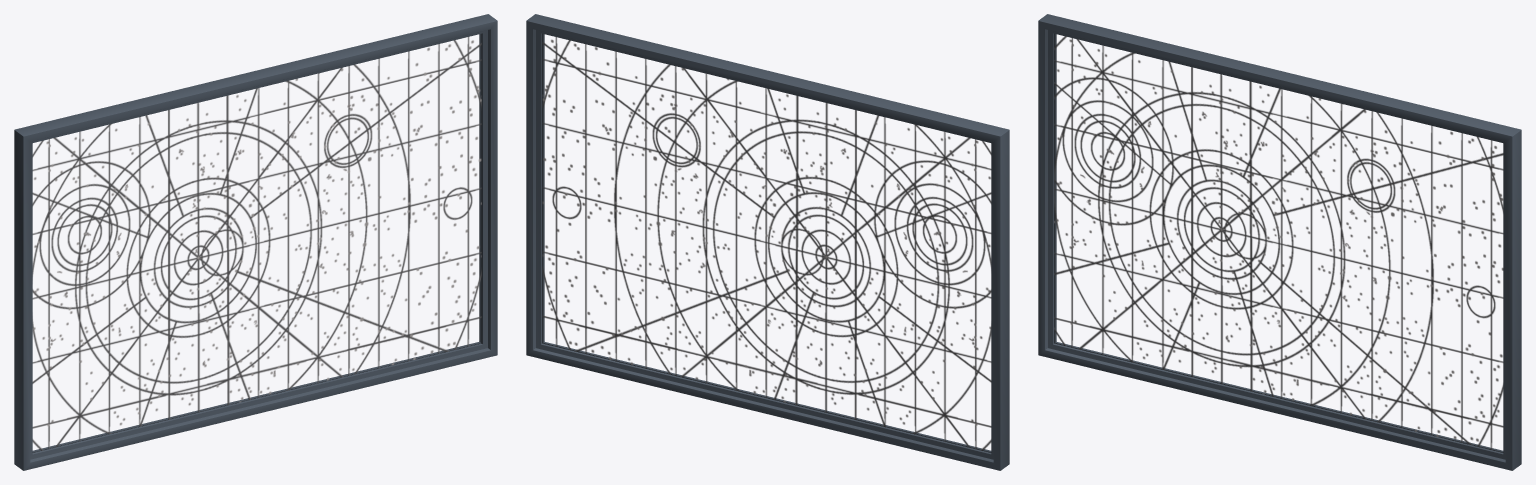
Rendered from stargate_sg-1_star_map_boardroom.glb.
3 views of the same model, side by side, from view 1: azimuth 30°, elevation 25°; view 2: azimuth 150°, elevation 25°; view 3: azimuth 330°, elevation 25° (orthographic).
Parts seen in each view (by area): view 1: Object_2; view 2: Object_2; view 3: Object_2.
Part boxes in pixels (x1,y1,x2,y2): Object_2: (14,14,497,470); Object_2: (526,14,1009,470); Object_2: (1038,14,1521,470).
Bounding box in the file's own units: 6.34 × 4.27 × 0.2167.
1 material, 1 textured.
